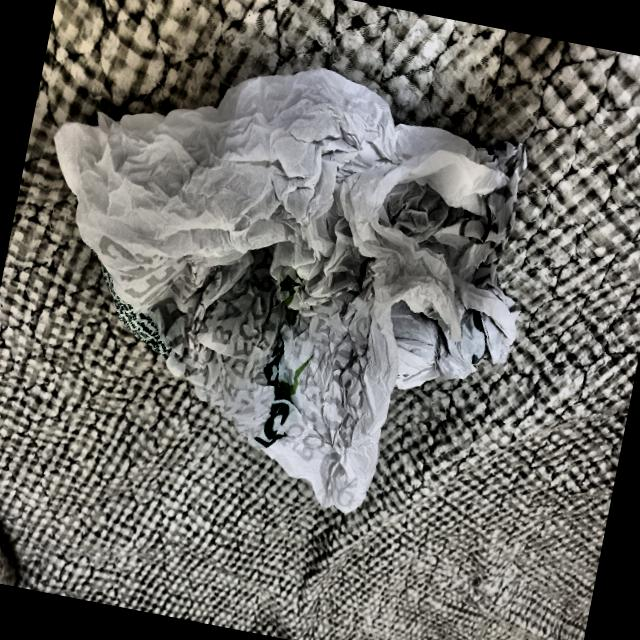plastic bag: (0, 18, 567, 545)
